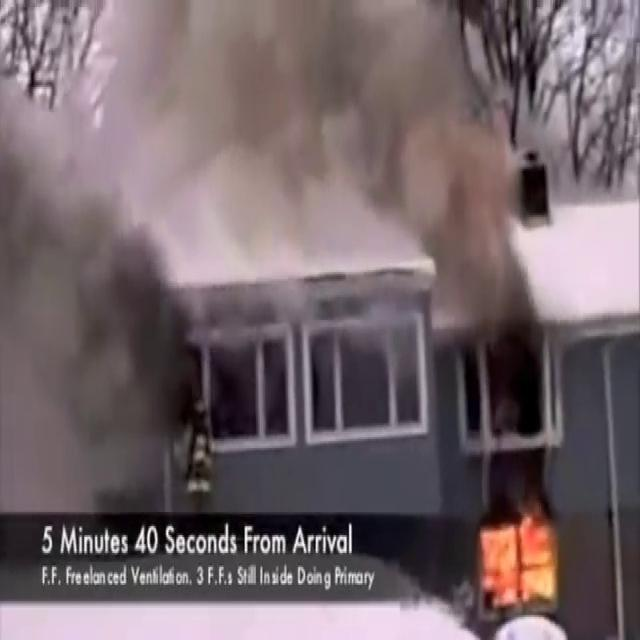Fire: (470, 496, 570, 628)
Smoke: (3, 1, 524, 291), (0, 83, 215, 500)
